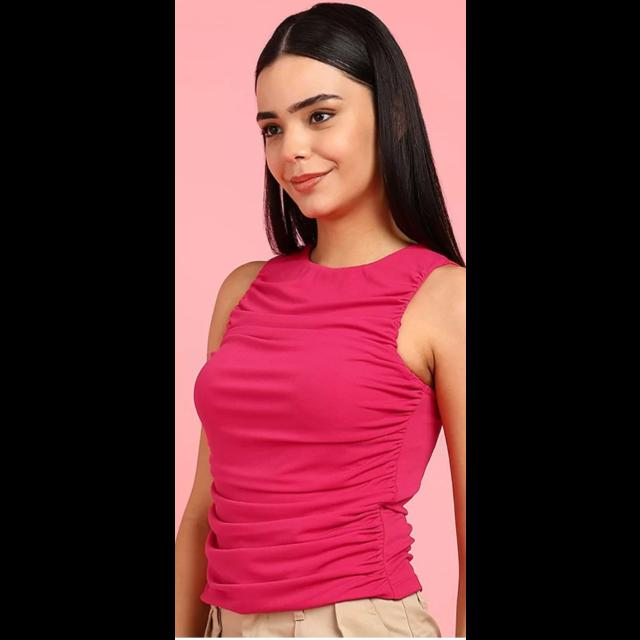top: (197, 256, 426, 608)
